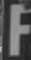Parking: (3, 1, 29, 54)
